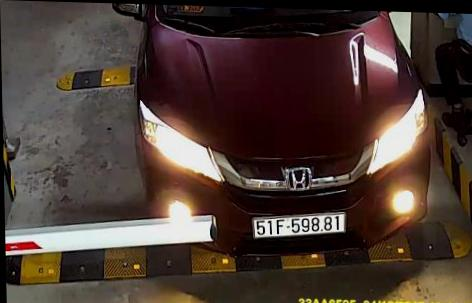License_Plate: (245, 207, 348, 241)
